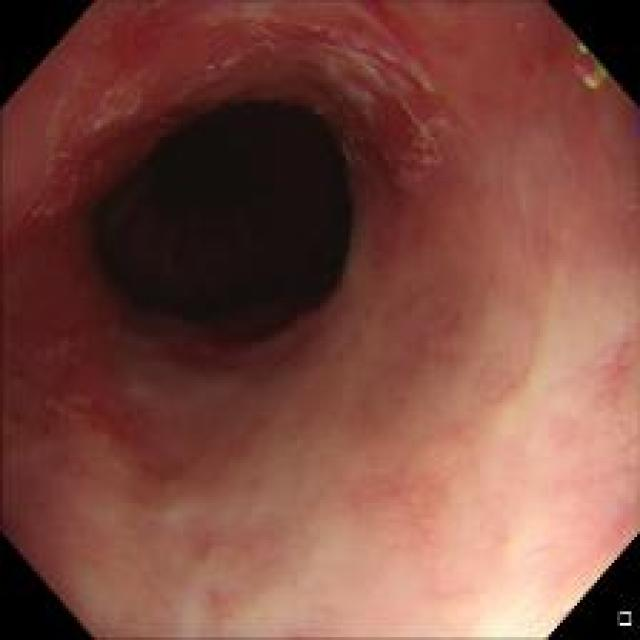color misalignment: (576, 45, 611, 92)
contrast: (82, 76, 390, 376)
saturation: (482, 586, 568, 636)
